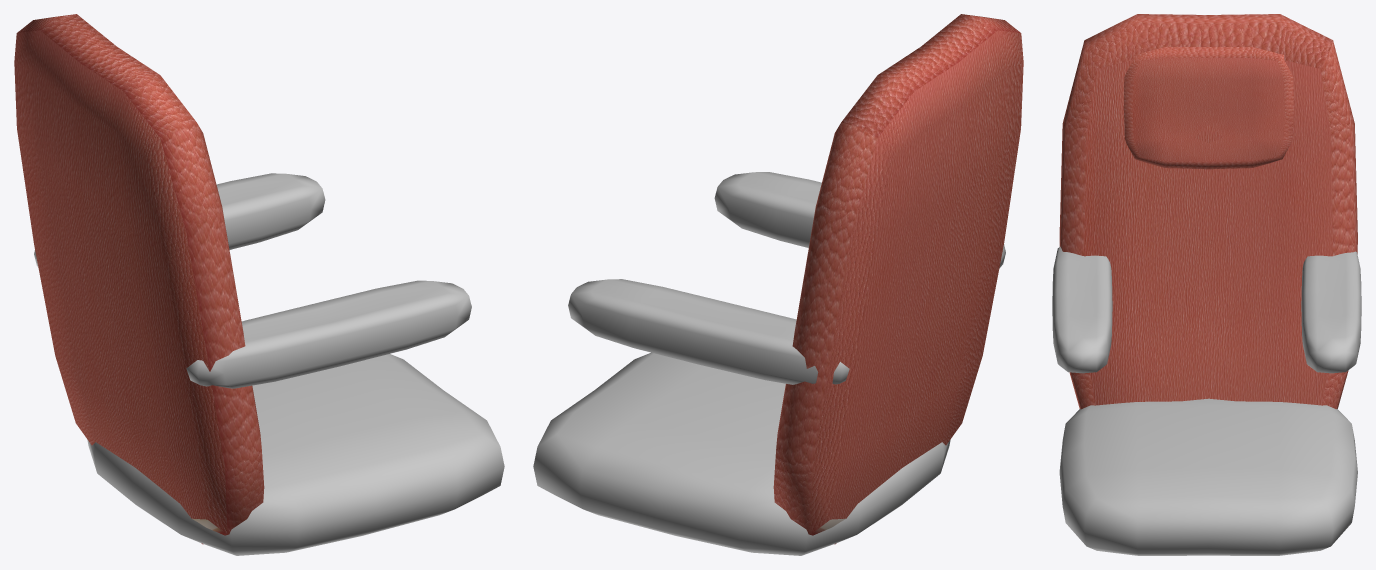
The model's file is zxc.fbx.
3 views of the same model, side by side, from view 1: azimuth 30°, elevation 25°; view 2: azimuth 150°, elevation 25°; view 3: azimuth 270°, elevation 25° (orthographic). The views are drawn at different scales.
Visible parts, largest first — view 1: subdivCube3, subdivCube1, subdivCube4, subdivCube5; view 2: subdivCube3, subdivCube1, subdivCube5, subdivCube4; view 3: subdivCube3, subdivCube1, subdivCube10, subdivCube4, subdivCube5.
Boxes of the visible parts, x1,y1,x2,y2 form: subdivCube3: (14, 14, 264, 544); subdivCube1: (87, 354, 504, 555); subdivCube4: (186, 280, 471, 388); subdivCube5: (34, 173, 325, 266); subdivCube3: (773, 14, 1023, 544); subdivCube1: (533, 352, 950, 555); subdivCube5: (568, 279, 849, 384); subdivCube4: (714, 172, 1005, 268); subdivCube3: (1059, 14, 1357, 409); subdivCube1: (1059, 398, 1357, 555); subdivCube10: (1123, 47, 1293, 169); subdivCube4: (1052, 246, 1112, 373); subdivCube5: (1301, 251, 1361, 373).
Size of the model in its own units: 3.63 by 4.49 by 3.04.
